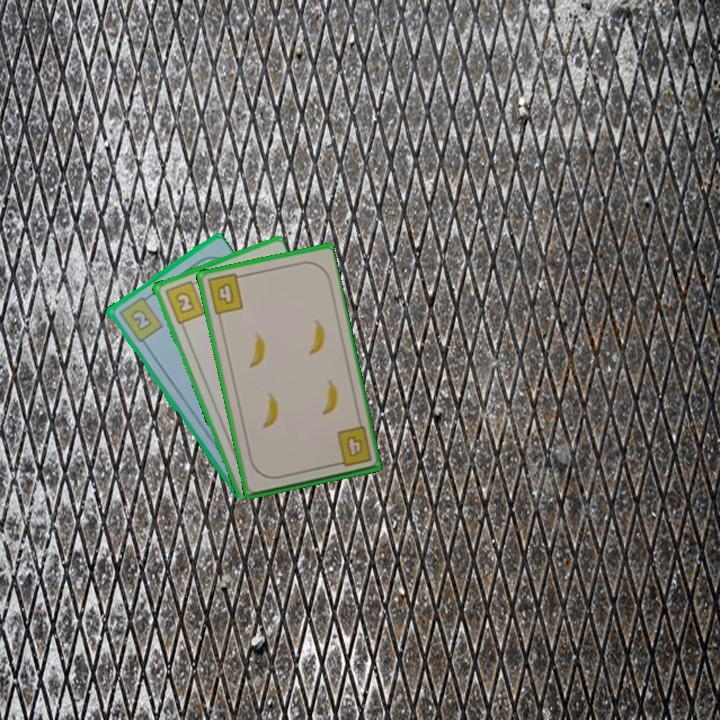2b: (115, 291, 165, 345), (161, 277, 207, 326)
4b: (330, 423, 374, 470), (204, 270, 246, 317)
